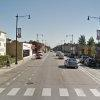Crosswalk: (5, 79, 99, 99)
